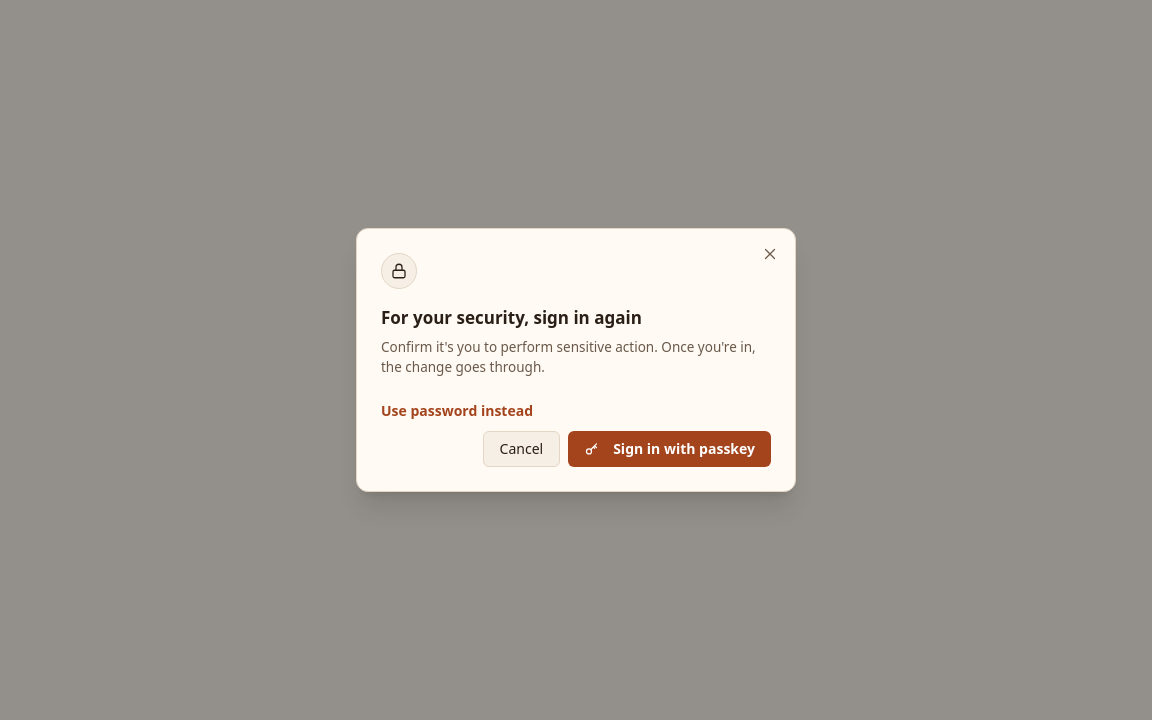
ReauthDialog › can switch back to passkey sign-in from password mode
The width and height of the screenshot is (1152, 720).
Click the button "Use password instead" at (457, 411), box 381,401 -> 533,421
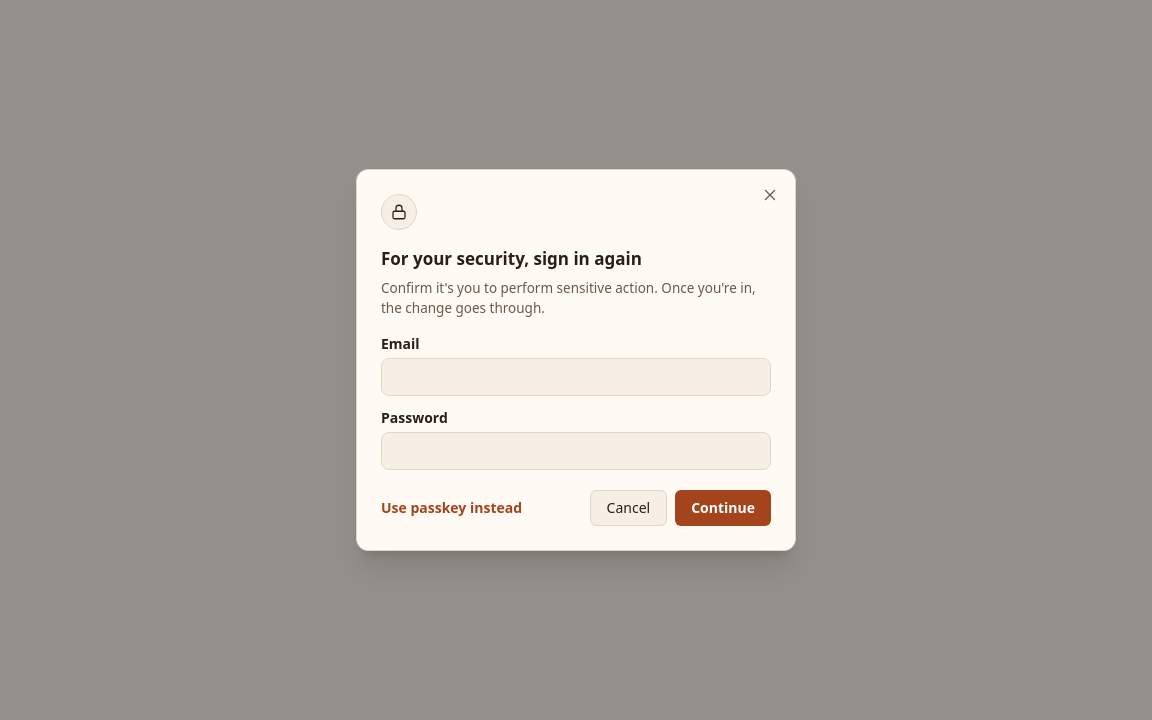
Check: the field labelled "Email" is shown, box 381,358 -> 771,396
Click the button "Use passkey instead" at (452, 508), box 381,498 -> 522,518
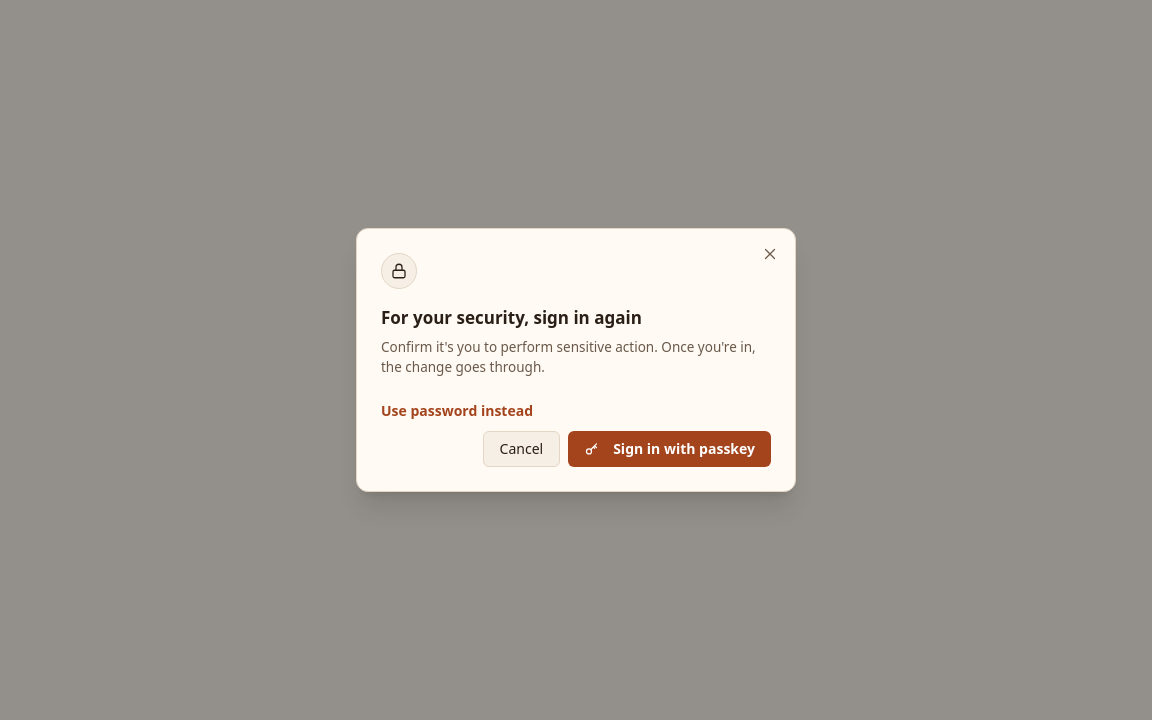
Check: the button "Sign in with passkey" is shown, box 568,431 -> 771,467
